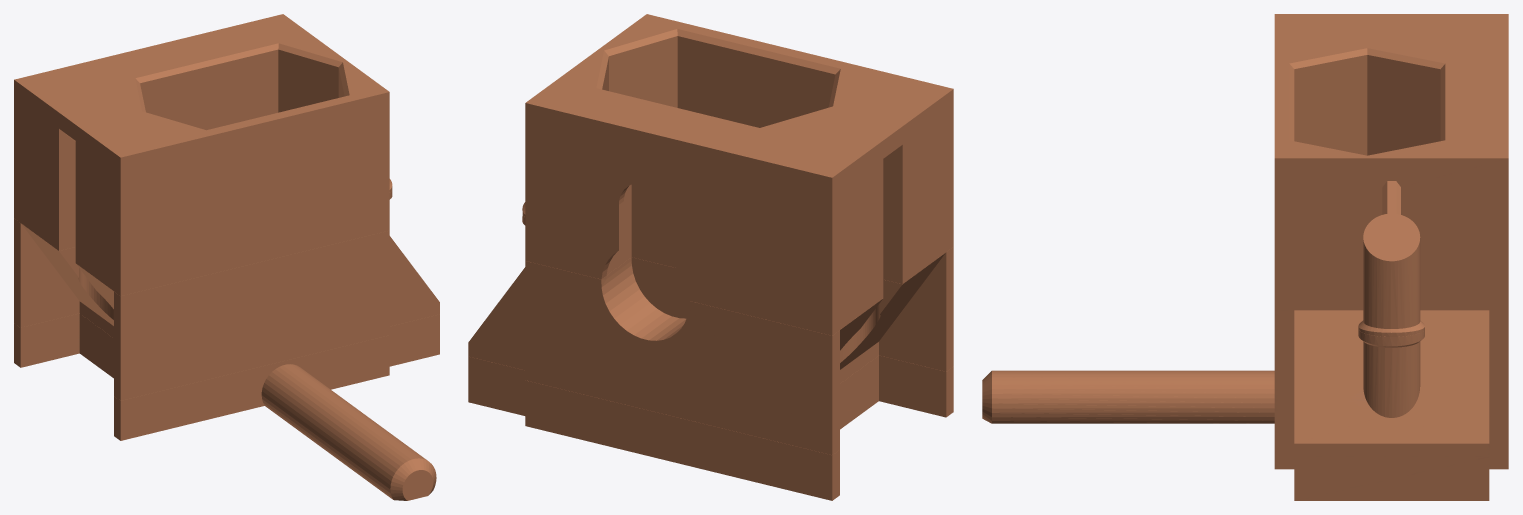
Rendered from brush2.glb.
3 views of the same model, side by side, from view 1: azimuth 30°, elevation 25°; view 2: azimuth 150°, elevation 25°; view 3: azimuth 270°, elevation 25° (orthographic). The views are drawn at different scales.
Parts seen in each view (by area): view 1: node_id29; view 2: node_id29; view 3: node_id29.
Part boxes in pixels (<box>): node_id29: <box>14,14,439,500</box>; node_id29: <box>468,14,953,500</box>; node_id29: <box>982,14,1508,500</box>.
Size of the model in its own units: 0.512 by 0.4225 by 0.6479.
Materials: 1 (1 with a texture image).
